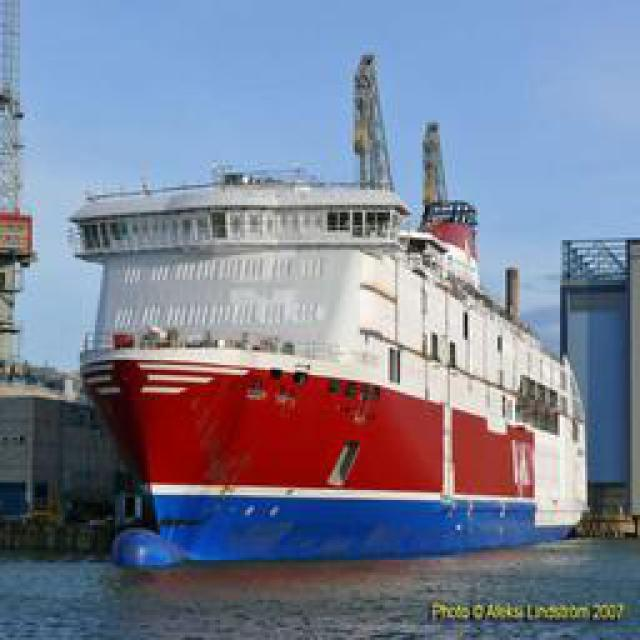Ship: (81, 28, 591, 563)
